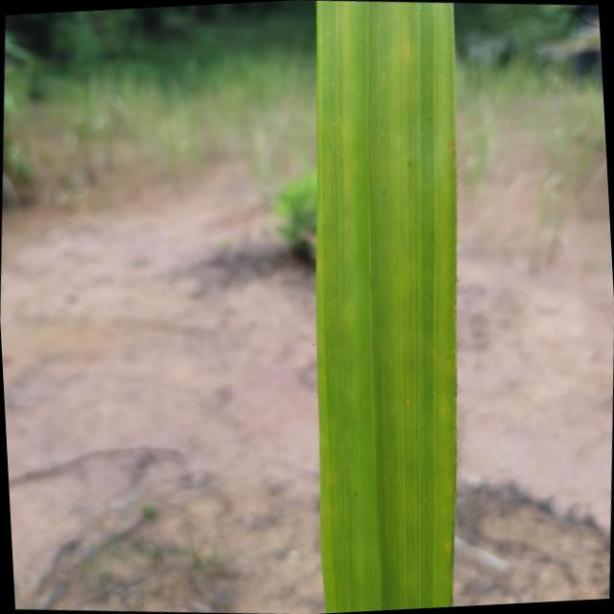nitrogen: (312, 1, 459, 614)
